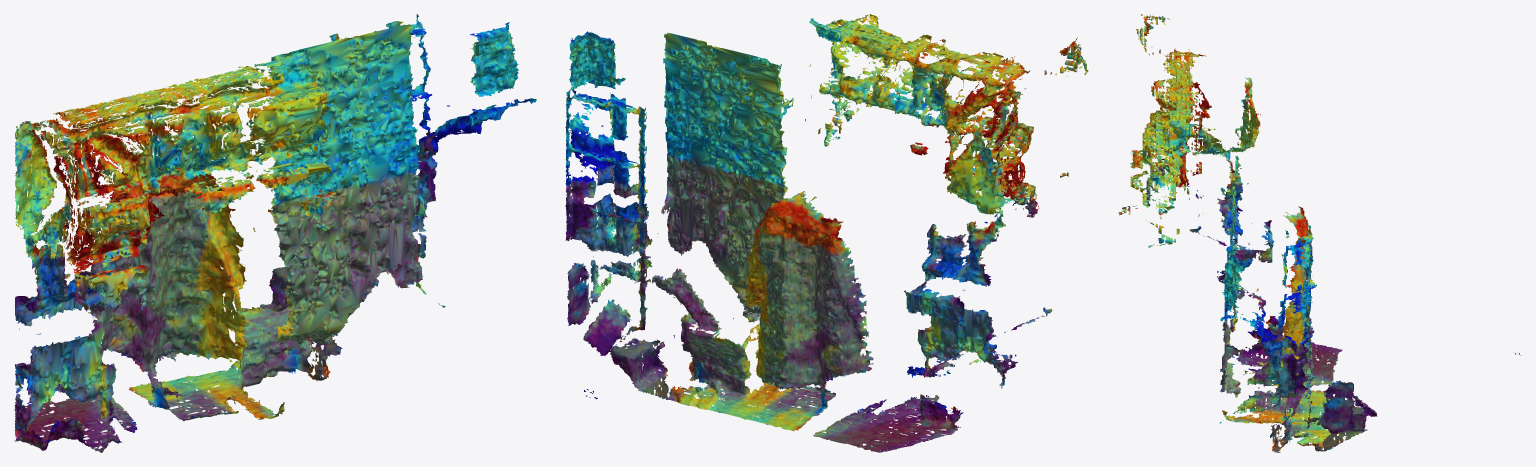
Rendered from mesh_iter_0002.obj.
3 views of the same model, side by side, from view 1: azimuth 30°, elevation 25°; view 2: azimuth 150°, elevation 25°; view 3: azimuth 270°, elevation 25° (orthographic). The views are drawn at different scales.
Bounding box in the file's own units: 3.03 × 2.16 × 2.54.
